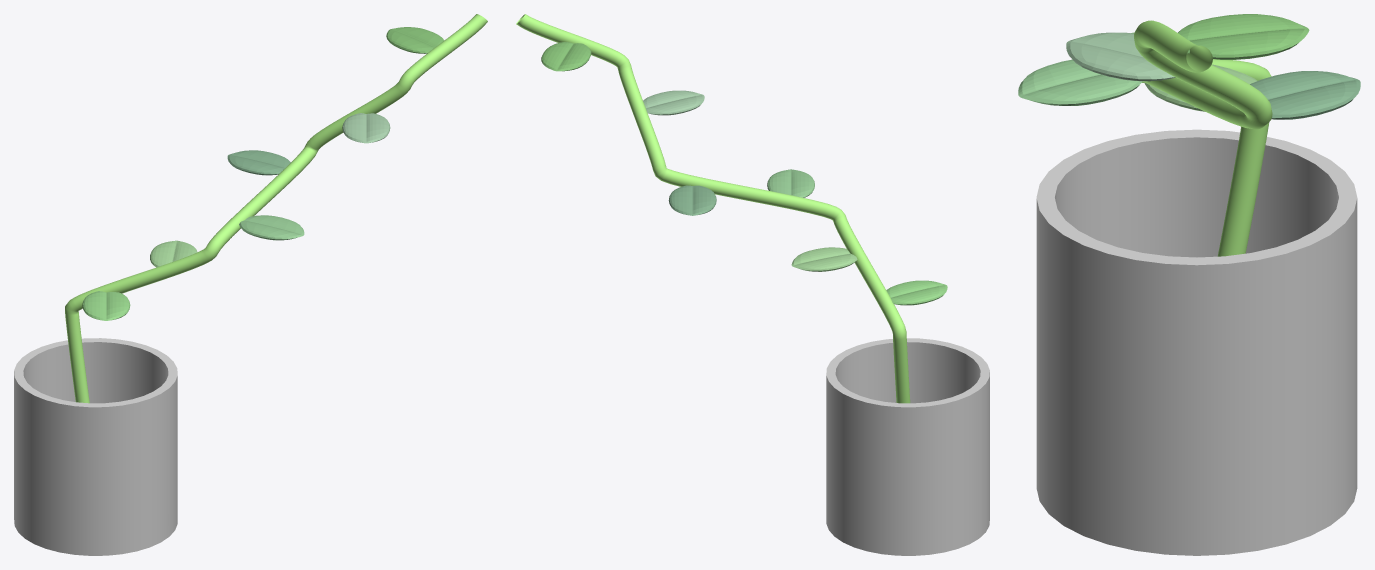
Rendered from pot.fbx.
3 renders of one model, left to right at view 1: azimuth 30°, elevation 25°; view 2: azimuth 150°, elevation 25°; view 3: azimuth 270°, elevation 25°, orthographic. The views are drawn at different scales.
Parts seen in each view (by area): view 1: Cylinder; view 2: Cylinder; view 3: Cylinder.
Part boxes in pixels (x1=…): Cylinder: x1=14, y1=14, x2=487, y2=555; Cylinder: x1=516, y1=14, x2=989, y2=555; Cylinder: x1=1018, y1=14, x2=1360, y2=555.
Bounding box in the file's own units: 4532 × 3874 × 1488.
